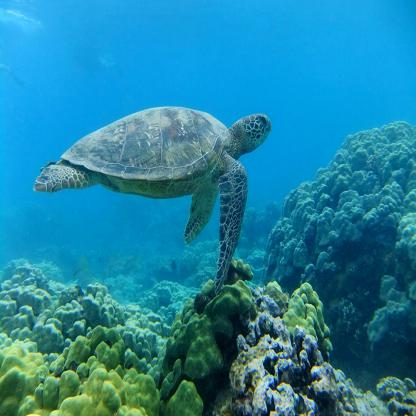turtle: (232, 106, 275, 157)
